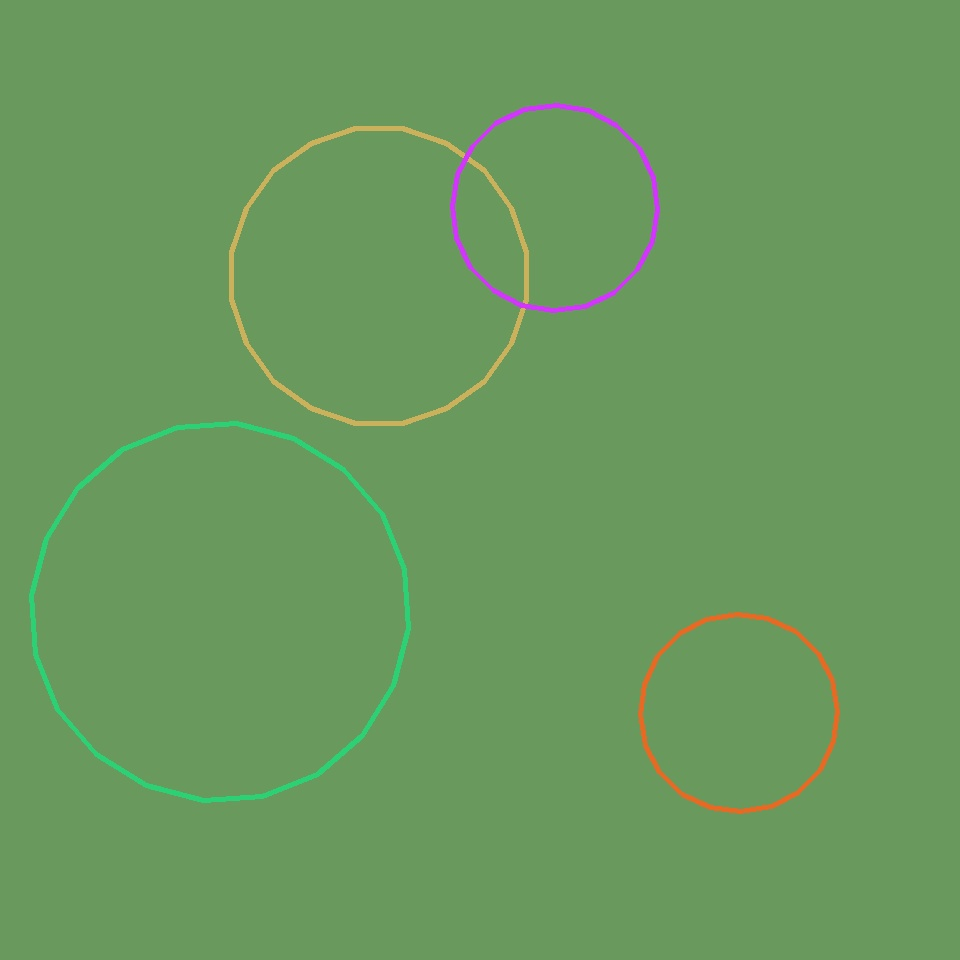triangle: (31, 423, 408, 800), (231, 128, 526, 424), (452, 106, 658, 310), (640, 614, 837, 811)
